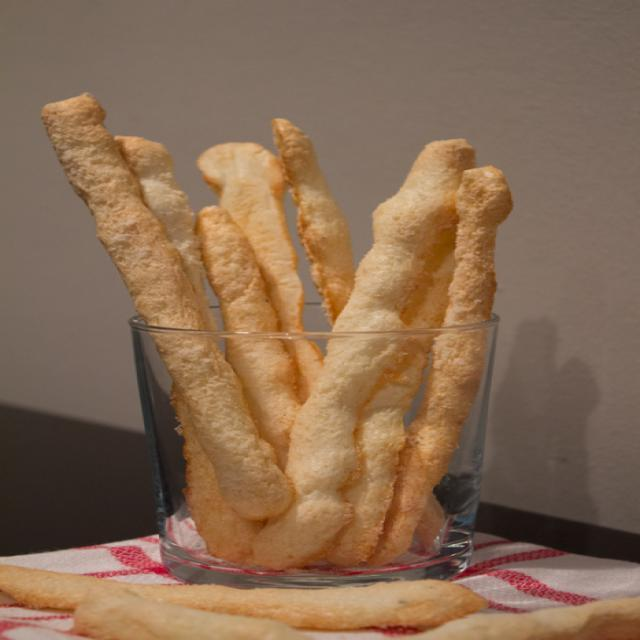Grissini: (51, 89, 513, 555)
